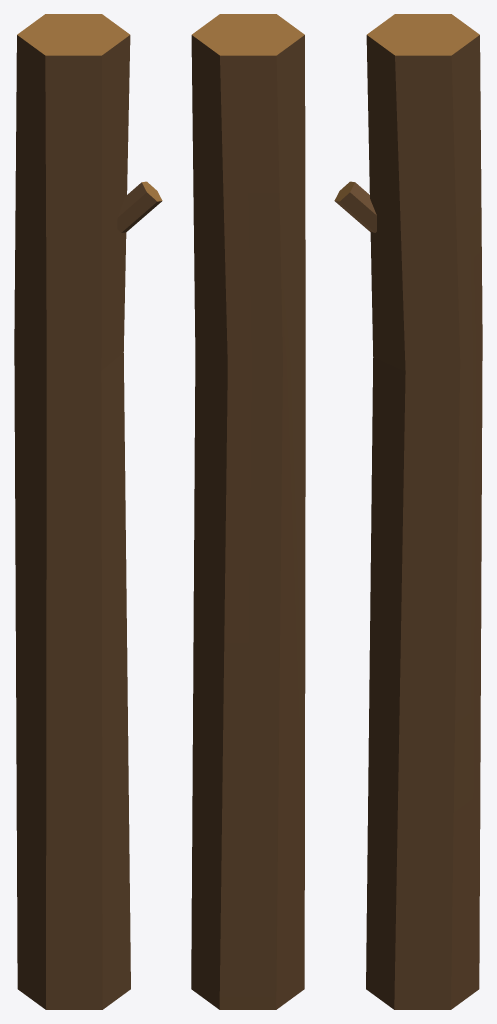
Rendered from log-post.glb.
3 renders of one model, left to right at view 1: azimuth 90°, elevation 25°; view 2: azimuth 210°, elevation 25°; view 3: azimuth 270°, elevation 25°, orthographic.
Parts seen in each view (by area): view 1: log-post; view 2: log-post; view 3: log-post.
Part boxes in pixels (x1=…): log-post: x1=14, y1=14, x2=162, y2=1009; log-post: x1=191, y1=14, x2=305, y2=1009; log-post: x1=334, y1=14, x2=482, y2=1009.
Size of the model in its own units: 0.1678 by 1.74 by 0.2448.
Materials: 1 (1 with a texture image).
